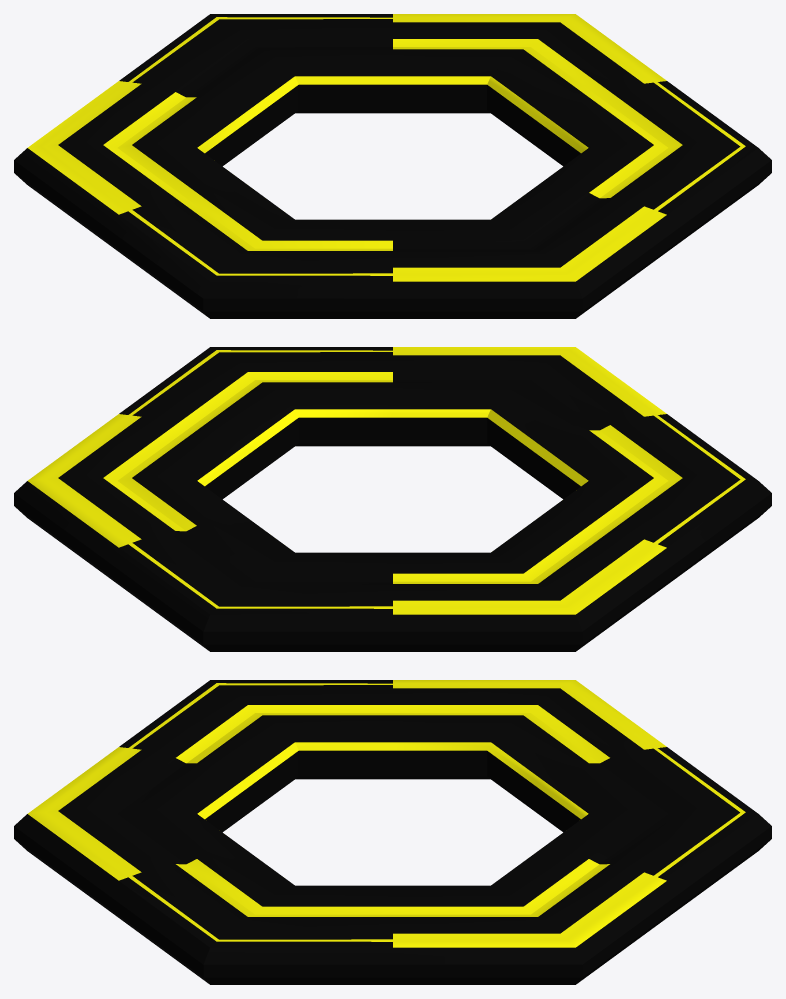
The model's file is sci-fi_coin-transformed.glb.
3 views of the same model, one above another, from view 1: azimuth 30°, elevation 25°; view 2: azimuth 150°, elevation 25°; view 3: azimuth 270°, elevation 25° (orthographic).
Visible parts, largest first — view 1: Tube004_Material #161 [Tube004]_0, Tube004_14 - Default_0; view 2: Tube004_Material #161 [Tube004]_0, Tube004_14 - Default_0; view 3: Tube004_Material #161 [Tube004]_0, Tube004_14 - Default_0.
Boxes of the visible parts, box(x1,y1,x2,y2) form: Tube004_Material #161 [Tube004]_0: box(14, 14, 771, 318); Tube004_14 - Default_0: box(27, 14, 745, 281); Tube004_Material #161 [Tube004]_0: box(14, 347, 771, 651); Tube004_14 - Default_0: box(27, 347, 745, 614); Tube004_Material #161 [Tube004]_0: box(14, 680, 771, 984); Tube004_14 - Default_0: box(27, 680, 745, 947).
Size of the model in its own units: 59.53 by 4.29 by 68.74.
